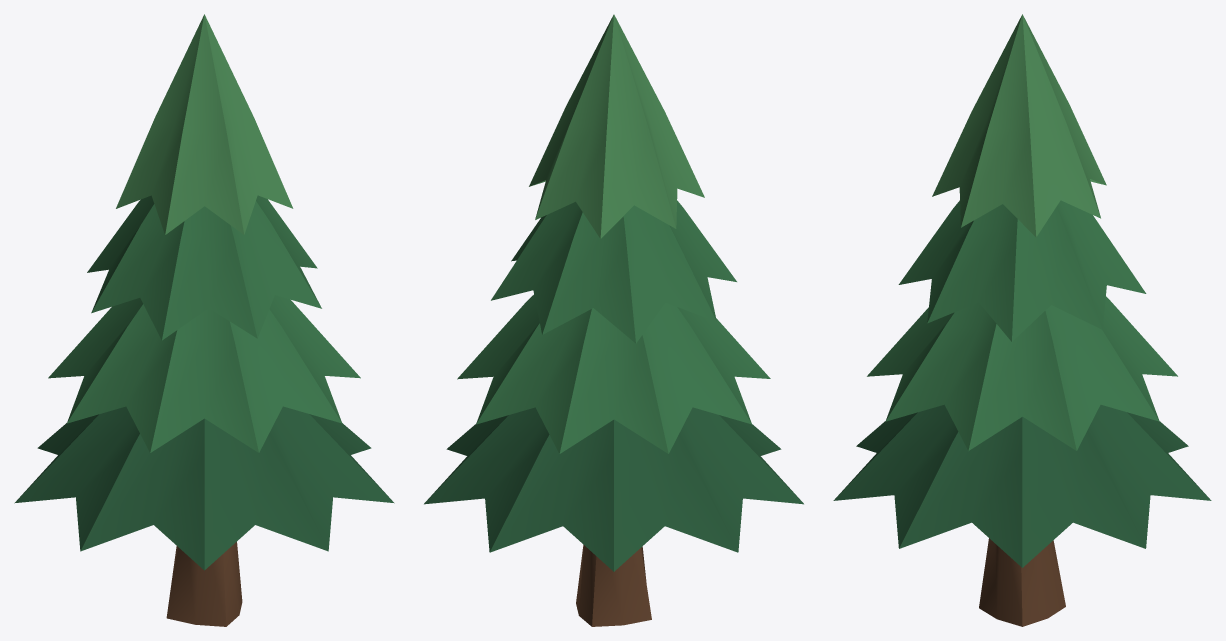
File: tree-pine.glb
The picture shows the model from 3 angles, left to right: view 1: azimuth 30°, elevation 25°; view 2: azimuth 150°, elevation 25°; view 3: azimuth 270°, elevation 25°; orthographic projection.
Parts seen in each view (by area): view 1: Part_LeafPineMid, PineTier_0, PineTier_3, Trunk; view 2: Part_LeafPineMid, PineTier_0, PineTier_3, Trunk; view 3: Part_LeafPineMid, PineTier_0, PineTier_3, Trunk.
Boxes of the visible parts, box(x1,y1,x2,y2) form: Part_LeafPineMid: box(48, 195, 360, 452); PineTier_0: box(14, 406, 394, 570); PineTier_3: box(116, 14, 293, 234); Trunk: box(166, 542, 242, 626); Part_LeafPineMid: box(457, 200, 770, 453); PineTier_0: box(424, 407, 803, 571); PineTier_3: box(529, 14, 704, 238); Trunk: box(576, 545, 651, 626); Part_LeafPineMid: box(867, 200, 1177, 450); PineTier_0: box(833, 404, 1211, 567); PineTier_3: box(932, 14, 1106, 237); Trunk: box(979, 538, 1065, 626).
Size of the model in its own units: 3.53 by 6.21 by 3.58.
